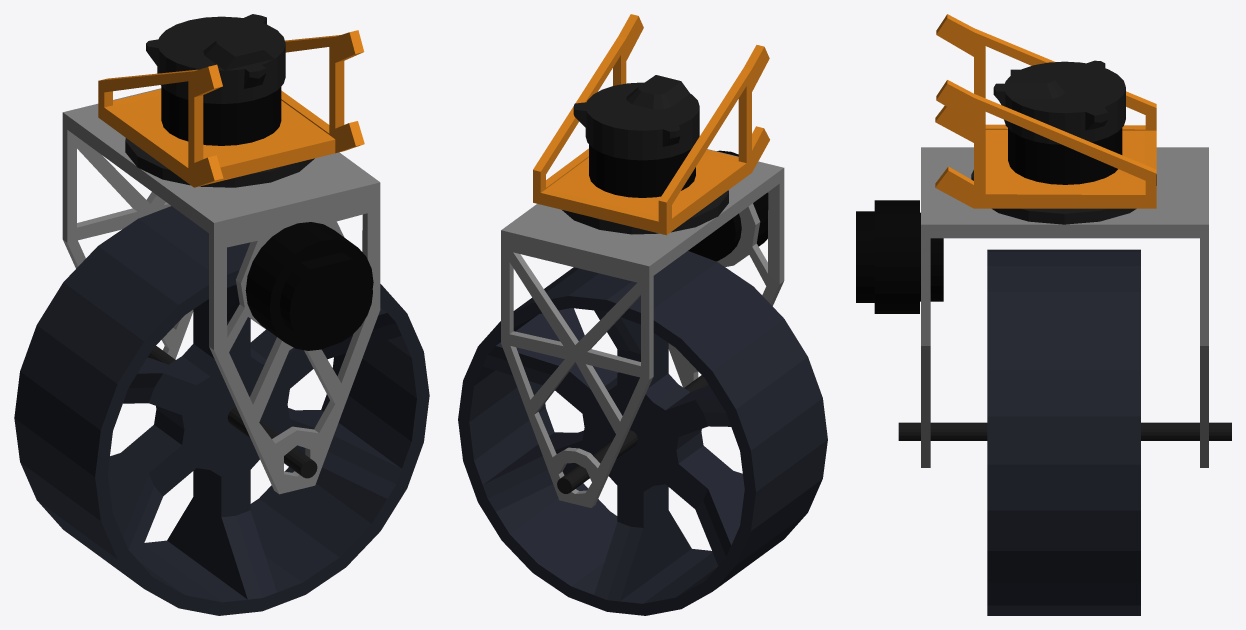
File: Wheel.glb
3 renders of one model, left to right at view 1: azimuth 30°, elevation 25°; view 2: azimuth 150°, elevation 25°; view 3: azimuth 270°, elevation 25°, orthographic. The views are drawn at different scales.
Parts seen in each view (by area): view 1: Wheel, Wheel Bracket, Suspension Bracket, RMD Wheel, RMD Holder, RMD Steering, Slip Ring, Wheel Axle; view 2: Wheel, Wheel Bracket, Suspension Bracket, RMD Holder, RMD Steering, RMD Wheel, Slip Ring, Wheel Axle; view 3: Wheel, Suspension Bracket, Wheel Bracket, RMD Holder, RMD Wheel, RMD Steering, Wheel Axle, Slip Ring.
Boxes of the visible parts, <box> form: Wheel: <box>14,206,429,615</box>; Wheel Bracket: <box>62,88,380,494</box>; Suspension Bracket: <box>98,30,364,187</box>; RMD Wheel: <box>245,222,373,350</box>; RMD Holder: <box>146,14,285,103</box>; RMD Steering: <box>161,86,281,145</box>; Slip Ring: <box>125,138,314,187</box>; Wheel Axle: <box>148,346,317,478</box>; Wheel: <box>458,251,827,615</box>; Wheel Bracket: <box>501,149,784,507</box>; Suspension Bracket: <box>533,14,769,235</box>; RMD Holder: <box>573,75,699,160</box>; RMD Steering: <box>589,144,695,197</box>; RMD Wheel: <box>688,150,768,261</box>; Slip Ring: <box>562,190,728,234</box>; Wheel Axle: <box>557,375,708,493</box>; Wheel: <box>987,249,1140,615</box>; Suspension Bracket: <box>935,14,1156,208</box>; Wheel Bracket: <box>921,147,1208,467</box>; RMD Holder: <box>993,60,1125,144</box>; RMD Wheel: <box>856,200,943,313</box>; RMD Steering: <box>1008,128,1122,184</box>; Wheel Axle: <box>898,422,1231,440</box>; Slip Ring: <box>971,170,1156,224</box>.
Size of the model in its own units: 0.2422 by 0.4001 by 0.2476.
